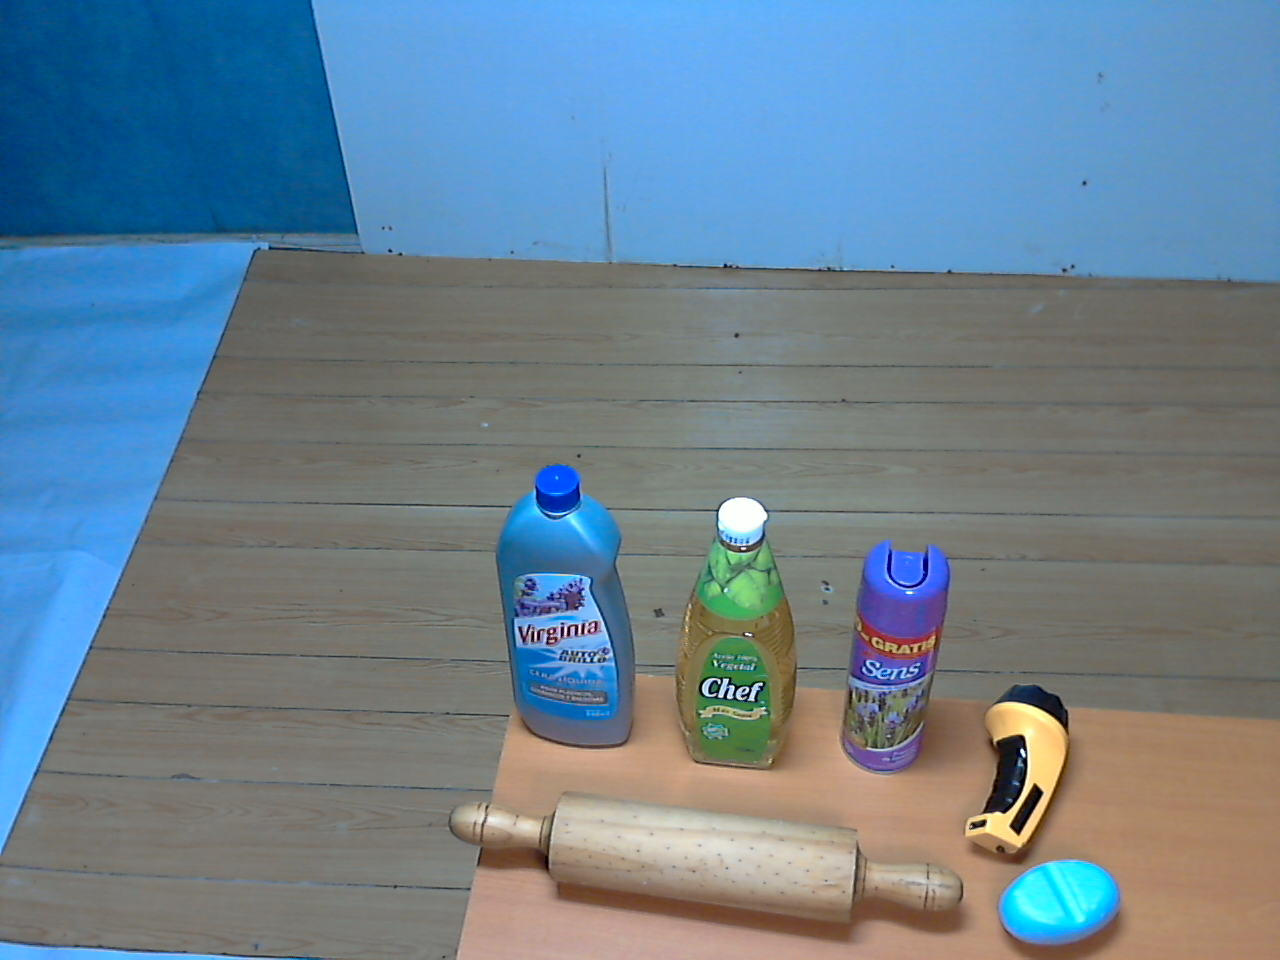aceite: (669, 494, 810, 778)
aerosol: (829, 529, 963, 786)
cera: (483, 464, 657, 759)
jabon: (991, 847, 1133, 960)
linterna: (957, 673, 1080, 864)
uslero: (432, 764, 966, 945)
